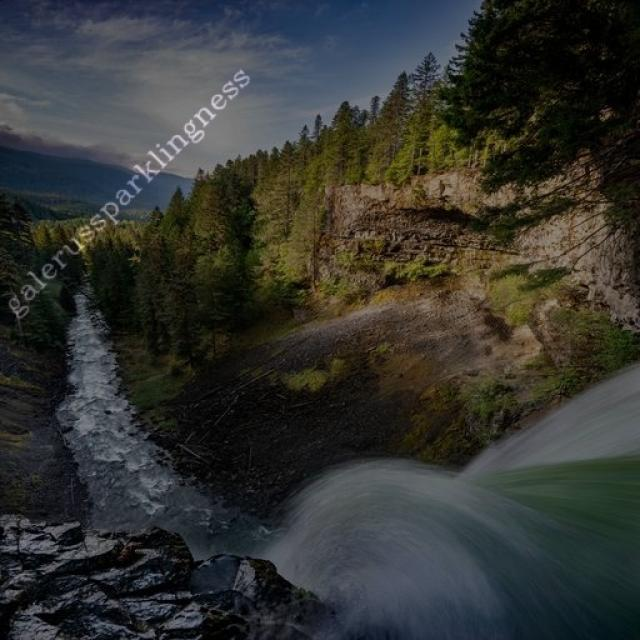watermark: (6, 54, 251, 320)
